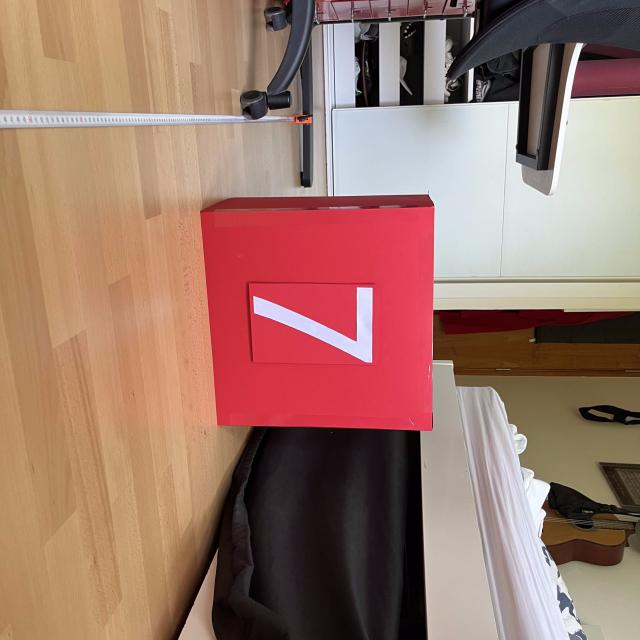box: (195, 190, 438, 432)
